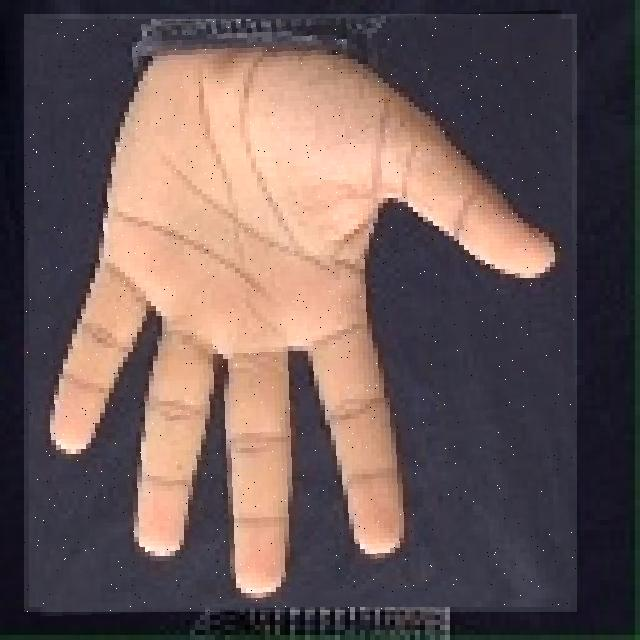Yes: (24, 14, 577, 612)
